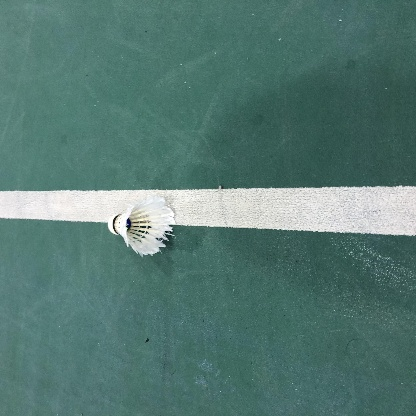ball_single: (108, 197, 174, 255)
